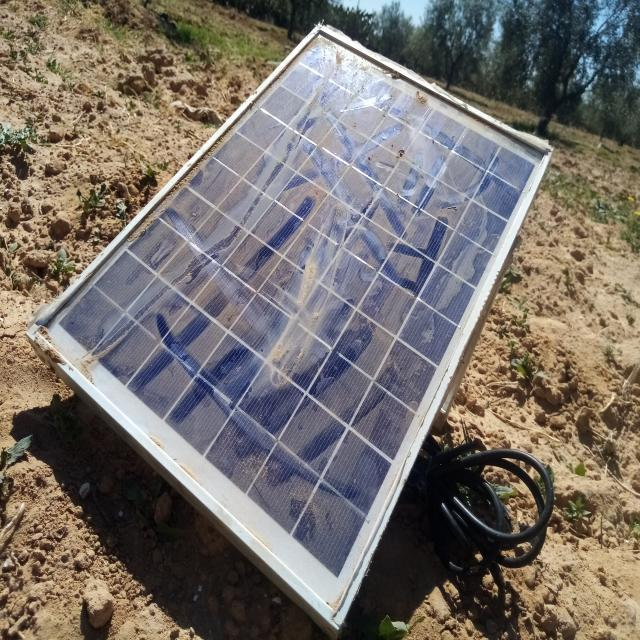faulty: (32, 27, 551, 623)
